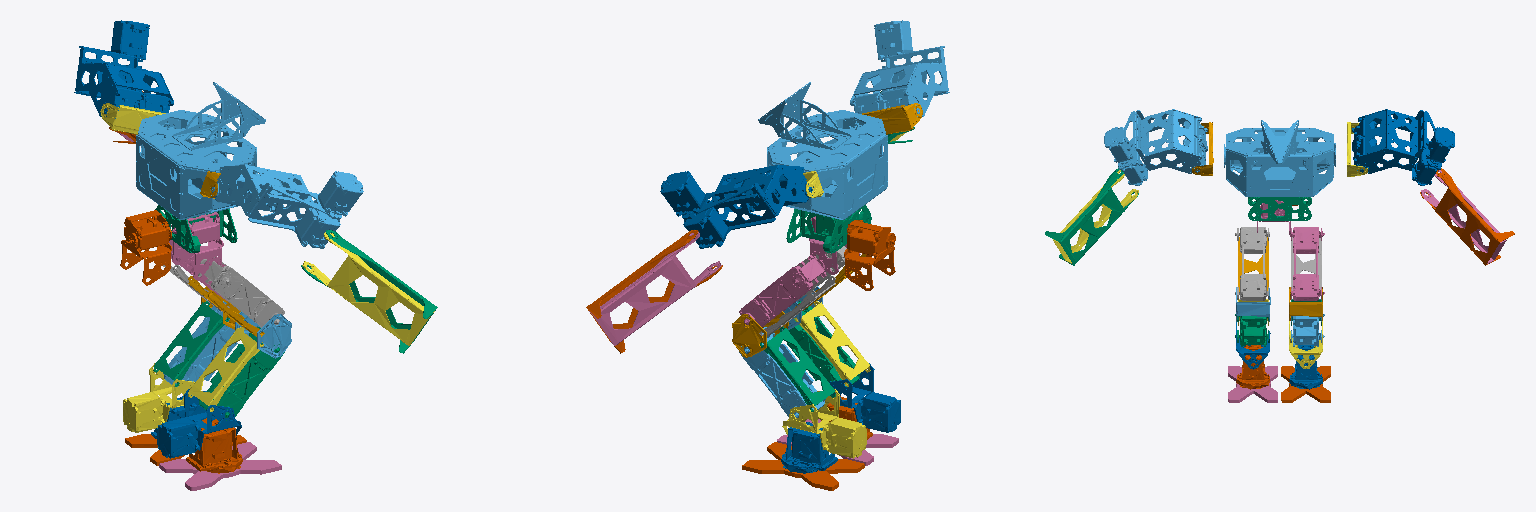
--- Render facts (derived) ---
3 views of the same robot in one strip: view 1: azimuth 30°, elevation 25°; view 2: azimuth 150°, elevation 25°; view 3: azimuth 270°, elevation 25° (orthographic).
Model ginko with 31 links and 30 joints (27 revolute, 3 fixed), rooted at base_link, posed every joint at zero.
Visible links, largest first — view 1: body_link0, arm_r_link1, arm_l_link1, arm_r_link3, leg_l_link0, leg_r_link6, leg_l_link6, leg_r_link1, leg_r_link4, leg_l_link5, leg_r_link5, leg_r_link8 (+9 smaller); view 2: body_link0, arm_l_link1, arm_r_link1, arm_l_link3, leg_l_link6, leg_l_link0, leg_l_link1, leg_r_link6, leg_l_link4, body_link1, leg_r_link5, leg_l_link5 (+9 smaller); view 3: body_link0, arm_l_link1, arm_r_link1, arm_r_link2, arm_l_link2, leg_r_link1, leg_l_link1, body_link1, arm_l_link3, arm_r_link3, leg_r_link8, leg_l_link8 (+8 smaller).
Link boxes in pixels (bbox=[...]): body_link0: bbox=[136, 82, 265, 219]; arm_r_link1: bbox=[211, 165, 363, 248]; arm_l_link1: bbox=[74, 20, 173, 118]; arm_r_link3: bbox=[302, 232, 434, 345]; leg_l_link0: bbox=[120, 210, 171, 285]; leg_r_link6: bbox=[157, 389, 241, 458]; leg_l_link6: bbox=[123, 363, 194, 432]; leg_r_link1: bbox=[198, 257, 284, 327]; leg_r_link4: bbox=[198, 327, 284, 420]; leg_l_link5: bbox=[153, 301, 229, 386]; leg_r_link5: bbox=[188, 327, 263, 411]; leg_r_link8: bbox=[159, 442, 281, 490]; body_link0: bbox=[758, 82, 887, 219]; arm_l_link1: bbox=[660, 165, 813, 248]; arm_r_link1: bbox=[850, 20, 949, 116]; arm_l_link3: bbox=[589, 232, 721, 345]; leg_l_link6: bbox=[782, 389, 866, 458]; leg_l_link0: bbox=[844, 220, 895, 290]; leg_l_link1: bbox=[739, 255, 826, 326]; leg_r_link6: bbox=[829, 363, 900, 432]; leg_l_link4: bbox=[739, 327, 825, 417]; body_link1: bbox=[786, 205, 871, 253]; leg_r_link5: bbox=[794, 301, 870, 386]; leg_l_link5: bbox=[760, 327, 835, 411]; body_link0: bbox=[1224, 120, 1335, 196]; arm_l_link1: bbox=[1352, 109, 1454, 185]; arm_r_link1: bbox=[1104, 109, 1207, 185]; arm_r_link2: bbox=[1045, 168, 1138, 265]; arm_l_link2: bbox=[1420, 168, 1514, 265]; leg_r_link1: bbox=[1235, 227, 1269, 300]; leg_l_link1: bbox=[1290, 227, 1324, 300]; body_link1: bbox=[1248, 197, 1311, 220]; arm_l_link3: bbox=[1421, 170, 1506, 263]; arm_r_link3: bbox=[1053, 170, 1138, 263]; leg_r_link8: bbox=[1228, 366, 1277, 402]; leg_l_link8: bbox=[1281, 366, 1330, 402].
Size in the robot's own frame: 0.2318 by 0.7537 by 0.4849 metres.
28 mesh visuals loaded from 25 distinct referenced files (24 binary STL); not drawn: 2 (reference not matched to a file when rendering).

The robot description file, URDF, robot "ginko":
<?xml version="1.0" ?>
<!-- =================================================================================== -->
<!-- |    This document was autogenerated by xacro from ./urdf_sim/robot_gazebo.urdf.xacro | -->
<!-- |    EDITING THIS FILE BY HAND IS NOT RECOMMENDED                                 | -->
<!-- =================================================================================== -->
<robot name="ginko" xmlns:xacro="http://www.ros.org/wiki/xacro">
  <!-- Used for fixing robot to Gazebo 'base_link' -->
  <!-- <link name="base"/> -->
  <gazebo>
    <plugin filename="libgazebo_ros_control.so" name="gazebo_ros_control">
      <robotNamespace>/ginko</robotNamespace>
      <robotSimType>gazebo_ros_control/DefaultRobotHWSim</robotSimType>
    </plugin>
  </gazebo>

  <link name="base_link"/>
  <joint name="base_joint" type="fixed">
    <parent link="base_link"/>
    <child link="body_link0"/>
    <origin rpy="0 0 0" xyz="0 0 0"/>
    <axis xyz="0 0 1"/>
    <limit effort="0.0" lower="0.0" upper="0.0" velocity="0.0"/>
  </joint>
  <!-- chest -->
  <link name="body_link0">
    <collision>
      <origin rpy="0 0 0" xyz="0 0 0"/>
      <geometry>
        <mesh filename="package://ginko_description/meshes/stl/link00_chest.stl"/>
      </geometry>
    </collision>
    <visual>
      <origin rpy="0 0 0" xyz="0 0 0"/>
      <geometry>
        <mesh filename="package://ginko_description/meshes/stl/link00_chest.stl"/>
      </geometry>
    </visual>
    <inertial>
      <mass value="1.41502697"/>
      <origin rpy="0 0 0" xyz="0.00008301 0.00000908 0.03819562"/>
      <inertia ixx="0.00248548" ixy="-0.00000074" ixz="0.000003761" iyy="0.00121388" iyz="-0.00000042" izz="0.00287756"/>
    </inertial>
  </link>

  <!-- waist -->
  <link name="body_link1">
    <collision>
      <origin rpy="0 0 0" xyz="0 0 0"/>
      <geometry>
        <mesh filename="package://ginko_description/meshes/stl/link01_waist.stl"/>
      </geometry>
    </collision>
    <visual>
      <origin rpy="0 0 0" xyz="0 0 0"/>
      <geometry>
        <mesh filename="package://ginko_description/meshes/stl/link01_waist.stl"/>
      </geometry>
    </visual>
    <inertial>
      <mass value="0.33312665"/>
      <origin rpy="0 0 0" xyz="-0.01135452 -0.00000134 -0.02720222"/>
      <inertia ixx="0.00015328" ixy="0.00000003" ixz="0.00001078" iyy="0.00073745" iyz="0.00000000" izz="0.00073107"/>
    </inertial>
  </link>
  <joint name="body_joint1" type="revolute">
    <parent link="body_link0"/>
    <child link="body_link1"/>
    <origin rpy="0 0 0" xyz="0 0 0"/>
    <axis xyz="0 0 1"/>
    <limit effort="100.0" lower="-2.6" upper="2.6" velocity="10.0"/>
  </joint>
  <!-- chest -->
  <gazebo reference="body_link0">
    <kp>10000.0</kp>
    <kd>0.0</kd>
    <mu1>1.0</mu1>
    <maxVel>1.0</maxVel>
    <minDepth>0.0001</minDepth>
    <maxContacts>5</maxContacts>
    <selfCollide>false</selfCollide>
    <!-- <dampingFactor>0.01</dampingFactor> -->
  </gazebo>
  <transmission name="body_tran0">
    <type>transmission_interface/SimpleTransmission</type>
    <joint name="body_joint1">
      <hardwareInterface>hardware_interface/EffortJointInterface</hardwareInterface>
    </joint>
    <actuator name="body_motor0">
      <hardwareInterface>hardware_interface/EffortJointInterface</hardwareInterface>
      <mechanicalReduction>1</mechanicalReduction>
    </actuator>
  </transmission>
  <!-- waist -->
  <gazebo reference="body_link1">
    <kp>10000.0</kp>
    <kd>0.0</kd>
    <mu1>1.0</mu1>
    <maxVel>1.0</maxVel>
    <minDepth>0.0001</minDepth>
    <maxContacts>5</maxContacts>
    <selfCollide>false</selfCollide>
    <!-- <dampingFactor>0.01</dampingFactor> -->
  </gazebo>
  <!-- shoulder pitch. -->
  <link name="arm_l_link0">
    <collision>
      <origin rpy="0 0 0" xyz="0 0 0"/>
      <geometry>
        <mesh filename="package://ginko_description/meshes/stl/link09_l_arm01.stl"/>
      </geometry>
    </collision>
    <visual>
      <origin rpy="0 0 0" xyz="0 0 0"/>
      <geometry>
        <mesh filename="package://ginko_description/meshes/stl/link09_l_arm01.stl"/>
      </geometry>
    </visual>
    <inertial>
      <mass value="0.01356014"/>
      <origin rpy="0 0 0" xyz="-0.01125790 0.00529265 0.00000000"/>
      <inertia ixx="0.00000235" ixy="0.00000004" ixz="0.00000000" iyy="0.00001670" iyz="0.00000000" izz="0.00001606"/>
    </inertial>
  </link>
  <joint name="arm_l_joint0" type="revolute">
    <parent link="body_link0"/>
    <child link="arm_l_link0"/>
    <origin rpy="0 0.3927 0" xyz="0 0.10683 0.05115"/>
    <axis xyz="0 -1 0"/>
    <limit effort="100.0" lower="-2.6" upper="2.6" velocity="10.0"/>
  </joint>
  <!-- shoulder roll -->
  <link name="arm_l_link1">
    <collision>
      <origin rpy="0 0 0" xyz="0 0 0"/>
      <geometry>
        <mesh filename="package://ginko_description/meshes/stl/link10_l_arm02.stl"/>
      </geometry>
    </collision>
    <visual>
      <origin rpy="0 0 0" xyz="0 0 0"/>
      <geometry>
        <mesh filename="package://ginko_description/meshes/stl/link10_l_arm02.stl"/>
      </geometry>
    </visual>
    <inertial>
      <mass value="0.33139947"/>
      <origin rpy="0 0 0" xyz="-0.02612786 0.02650564 -0.06333369"/>
      <inertia ixx="0.00115128" ixy="0.00015366" ixz="-0.00031848" iyy="0.00113572" iyz="-0.00037104" izz="0.00064743"/>
    </inertial>
  </link>
  <joint name="arm_l_joint1" type="revolute">
    <parent link="arm_l_link0"/>
    <child link="arm_l_link1"/>
    <origin rpy="1.1781 0 0" xyz="0.035 0.0246 0"/>
    <axis xyz="1 0 0"/>
    <limit effort="100.0" lower="-2.6" upper="2.6" velocity="10.0"/>
  </joint>
  <!-- scissors -->
  <link name="arm_l_link2">
    <collision>
      <origin rpy="0 0 0" xyz="0 0 0"/>
      <geometry>
        <mesh filename="package://ginko_description/meshes/stl/link11_l_scissor01.stl"/>
      </geometry>
    </collision>
    <visual>
      <origin rpy="0 0 0" xyz="0 0 0"/>
      <geometry>
        <mesh filename="package://ginko_description/meshes/stl/link11_l_scissor01.stl"/>
      </geometry>
    </visual>
    <inertial>
      <mass value="0.03287850"/>
      <origin rpy="0 0 0" xyz="0.08234859 -0.030246866 0.00514112"/>
      <inertia ixx="0.00002277" ixy="-0.00000014" ixz="-0.00000058" iyy="0.00008197" iyz="-0.00000001" izz="0.00010105"/>
    </inertial>
  </link>
  <joint name="arm_l_joint2" type="revolute">
    <parent link="arm_l_link1"/>
    <child link="arm_l_link2"/>
    <origin rpy="0 0.7854 0" xyz="0.0092 0.0547 -0.11295"/>
    <axis xyz="0 1 0"/>
    <limit effort="100.0" lower="-2.36" upper="2.36" velocity="10.0"/>
  </joint>
  <link name="arm_l_link3">
    <collision>
      <origin rpy="0 0 0" xyz="0 0 0"/>
      <geometry>
        <mesh filename="package://ginko_description/meshes/stl/link12_l_scissor02.stl"/>
      </geometry>
    </collision>
    <visual>
      <origin rpy="0 0 0" xyz="0 0 0"/>
      <geometry>
        <mesh filename="package://ginko_description/meshes/stl/link12_l_scissor02.stl"/>
      </geometry>
    </visual>
    <inertial>
      <mass value="0.02936110"/>
      <origin rpy="0 0 0" xyz="0.07807033 0.02515230 -0.00665437"/>
      <inertia ixx="0.00001452" ixy="0.00000023" ixz="-0.00000245" iyy="0.00006407" iyz="-0.00000002" izz="0.00008024"/>
    </inertial>
  </link>
  <joint name="arm_l_joint3" type="revolute">
    <parent link="arm_l_link1"/>
    <child link="arm_l_link3"/>
    <origin rpy="0 0.7854 0" xyz="0.0092 -0.0018 -0.11295"/>
    <axis xyz="0 1 0"/>
    <limit effort="100.0" lower="-2.36" upper="2.36" velocity="10.0"/>
  </joint>
  <!-- LiDAR -->
  <link name="arm_l_urg_link">
    <collision>
      <origin rpy="0 0 0" xyz="0 0 0"/>
      <geometry>
        <mesh filename="package://ginko_description/meshes/stl/urg.stl"/>
      </geometry>
    </collision>
    <visual>
      <origin rpy="0 0 0" xyz="0 0 0"/>
      <geometry>
        <mesh filename="package://ginko_description/meshes/stl/urg.stl"/>
      </geometry>
    </visual>
    <inertial>
      <mass value="0.16705492"/>
      <origin rpy="0 0 0" xyz="-0.00014579 0.00000831 -0.02360505"/>
      <inertia ixx="0.00008801" ixy="0.00000000" ixz="-0.00000049" iyy="0.00008854" iyz="-0.00000004" izz="0.00006019"/>
    </inertial>
  </link>
  <!-- use zero-limited revolute joint for fixed joint (SDF) -->
  <joint name="arm_l_urg_joint" type="fixed">
    <parent link="arm_l_link1"/>
    <child link="arm_l_urg_link"/>
    <origin rpy="0 1.57 -1.57" xyz="-0.0456 -0.01715 -0.06795"/>
    <axis xyz="0 0 1"/>
    <limit effort="0.0" lower="0.0" upper="0.0" velocity="0.0"/>
  </joint>
  <!-- shoulder pitch. -->
  <gazebo reference="arm_l_link0">
    <kp>10000.0</kp>
    <kd>0.0</kd>
    <mu1>1.0</mu1>
    <maxVel>1.0</maxVel>
    <minDepth>0.0001</minDepth>
    <maxContacts>5</maxContacts>
    <selfCollide>false</selfCollide>
    <!-- <dampingFactor>0.01</dampingFactor> -->
  </gazebo>
  <!-- shoulder roll -->
  <gazebo reference="arm_l_link1">
    <kp>10000.0</kp>
    <kd>0.0</kd>
    <mu1>1.0</mu1>
    <maxVel>1.0</maxVel>
    <minDepth>0.0001</minDepth>
    <maxContacts>5</maxContacts>
    <selfCollide>false</selfCollide>
    <!-- <dampingFactor>0.01</dampingFactor> -->
  </gazebo>
  <!-- scissors -->
  <gazebo reference="arm_l_link2">
    <kp>10000.0</kp>
    <kd>0.0</kd>
    <mu1>1.0</mu1>
    <maxVel>1.0</maxVel>
    <minDepth>0.0001</minDepth>
    <maxContacts>5</maxContacts>
    <selfCollide>false</selfCollide>
    <!-- <dampingFactor>0.01</dampingFactor> -->
  </gazebo>
  <gazebo reference="arm_l_link3">
    <kp>10000.0</kp>
    <kd>0.0</kd>
    <mu1>1.0</mu1>
    <maxVel>1.0</maxVel>
    <minDepth>0.0001</minDepth>
    <maxContacts>5</maxContacts>
    <selfCollide>false</selfCollide>
    <!-- <dampingFactor>0.01</dampingFactor> -->
  </gazebo>
  <transmission name="arm_l_tran0">
    <type>transmission_interface/SimpleTransmission</type>
    <joint name="arm_l_joint0">
      <hardwareInterface>hardware_interface/EffortJointInterface</hardwareInterface>
    </joint>
    <actuator name="arm_l_motor0">
      <hardwareInterface>hardware_interface/EffortJointInterface</hardwareInterface>
      <mechanicalReduction>1</mechanicalReduction>
    </actuator>
  </transmission>
  <transmission name="arm_l_tran1">
    <type>transmission_interface/SimpleTransmission</type>
    <joint name="arm_l_joint1">
      <hardwareInterface>hardware_interface/EffortJointInterface</hardwareInterface>
    </joint>
    <actuator name="arm_l_motor1">
      <hardwareInterface>hardware_interface/EffortJointInterface</hardwareInterface>
      <mechanicalReduction>1</mechanicalReduction>
    </actuator>
  </transmission>
  <transmission name="arm_l_tran2">
    <type>transmission_interface/SimpleTransmission</type>
    <joint name="arm_l_joint2">
      <hardwareInterface>hardware_interface/EffortJointInterface</hardwareInterface>
    </joint>
    <actuator name="arm_l_motor2">
      <hardwareInterface>hardware_interface/EffortJointInterface</hardwareInterface>
      <mechanicalReduction>1</mechanicalReduction>
    </actuator>
  </transmission>
  <transmission name="arm_l_tran3">
    <type>transmission_interface/SimpleTransmission</type>
    <joint name="arm_l_joint3">
      <hardwareInterface>hardware_interface/EffortJointInterface</hardwareInterface>
    </joint>
    <actuator name="arm_l_motor3">
      <hardwareInterface>hardware_interface/EffortJointInterface</hardwareInterface>
      <mechanicalReduction>1</mechanicalReduction>
    </actuator>
  </transmission>
  <!-- shoulder pitch. -->
  <link name="arm_r_link0">
    <collision>
      <origin rpy="0 0 0" xyz="0 0 0"/>
      <geometry>
        <mesh filename="package://ginko_description/meshes/stl/link09_r_arm01.stl"/>
      </geometry>
    </collision>
    <visual>
      <origin rpy="0 0 0" xyz="0 0 0"/>
      <geometry>
        <mesh filename="package://ginko_description/meshes/stl/link09_r_arm01.stl"/>
      </geometry>
    </visual>
    <inertial>
      <mass value="0.01356014"/>
      <origin rpy="0 0 0" xyz="-0.01125790 -0.00529265 0.00000000"/>
      <inertia ixx="0.00000235" ixy="-0.00000004" ixz="0.00000000" iyy="0.00001670" iyz="0.00000000" izz="0.00001606"/>
    </inertial>
  </link>
  <joint name="arm_r_joint0" type="revolute">
    <parent link="body_link0"/>
    <child link="arm_r_link0"/>
    <origin rpy="0 0.3927 0" xyz="0 -0.10683 0.05115"/>
    <axis xyz="0 1 0"/>
    <limit effort="100.0" lower="-2.6" upper="2.6" velocity="10.0"/>
  </joint>
  <!-- shoulder roll -->
  <link name="arm_r_link1">
    <collision>
      <origin rpy="0 0 0" xyz="0 0 0"/>
      <geometry>
        <mesh filename="package://ginko_description/meshes/stl/link10_r_arm02.stl"/>
      </geometry>
    </collision>
    <visual>
      <origin rpy="0 0 0" xyz="0 0 0"/>
      <geometry>
        <mesh filename="package://ginko_description/meshes/stl/link10_r_arm02.stl"/>
      </geometry>
    </visual>
    <inertial>
      <mass value="0.33139947"/>
      <origin rpy="0 0 0" xyz="-0.02612786 -0.02650564 -0.06333369"/>
      <inertia ixx="0.00115128" ixy="-0.00015366" ixz="-0.00031848" iyy="0.00113572" iyz="0.00037104" izz="0.00064743"/>
    </inertial>
  </link>
  <joint name="arm_r_joint1" type="revolute">
    <parent link="arm_r_link0"/>
    <child link="arm_r_link1"/>
    <origin rpy="-1.1781 0 0" xyz="0.035 -0.0246 0"/>
    <axis xyz="1 0 0"/>
    <limit effort="100.0" lower="-2.6" upper="2.6" velocity="10.0"/>
  </joint>
  <!-- scissors -->
  <link name="arm_r_link2">
    <collision>
      <origin rpy="0 0 0" xyz="0 0 0"/>
      <geometry>
        <mesh filename="package://ginko_description/meshes/stl/link11_r_scissor01.stl"/>
      </geometry>
    </collision>
    <visual>
      <origin rpy="0 0 0" xyz="0 0 0"/>
      <geometry>
        <mesh filename="package://ginko_description/meshes/stl/link11_r_scissor01.stl"/>
      </geometry>
    </visual>
    <inertial>
      <mass value="0.03287850"/>
      <origin rpy="0 0 0" xyz="0.08234859 0.030246866 0.00514112"/>
      <inertia ixx="0.00002277" ixy="0.00000014" ixz="-0.00000058" iyy="0.00008197" iyz="0.00000001" izz="0.00010105"/>
    </inertial>
  </link>
  <joint name="arm_r_joint2" type="revolute">
    <parent link="arm_r_link1"/>
    <child link="arm_r_link2"/>
    <origin rpy="0 0.7854 0" xyz="0.0092 -0.0547 -0.11295"/>
    <axis xyz="0 -1 0"/>
    <limit effort="100.0" lower="-2.36" upper="2.36" velocity="10.0"/>
  </joint>
  <link name="arm_r_link3">
    <collision>
      <origin rpy="0 0 0" xyz="0 0 0"/>
      <geometry>
        <mesh filename="package://ginko_description/meshes/stl/link12_r_scissor02.stl"/>
      </geometry>
    </collision>
    <visual>
      <origin rpy="0 0 0" xyz="0 0 0"/>
      <geometry>
        <mesh filename="package://ginko_description/meshes/stl/link12_r_scissor02.stl"/>
      </geometry>
    </visual>
    <inertial>
      <mass value="0.02936110"/>
      <origin rpy="0 0 0" xyz="0.07807033 -0.02515230 -0.00665437"/>
      <inertia ixx="0.00001452" ixy="-0.00000023" ixz="-0.00000245" iyy="0.00006407" iyz="0.00000002" izz="0.00008024"/>
    </inertial>
  </link>
  <joint name="arm_r_joint3" type="revolute">
    <parent link="arm_r_link1"/>
    <child link="arm_r_link3"/>
    <origin rpy="0 0.7854 0" xyz="0.0092 0.0018 -0.11295"/>
    <axis xyz="0 -1 0"/>
    <limit effort="100.0" lower="-2.36" upper="2.36" velocity="10.0"/>
  </joint>
  <!-- LiDAR -->
  <link name="arm_r_urg_link">
    <collision>
      <origin rpy="0 0 0" xyz="0 0 0"/>
      <geometry>
        <mesh filename="package://ginko_description/meshes/stl/urg.stl"/>
      </geometry>
    </collision>
    <visual>
      <origin rpy="0 0 0" xyz="0 0 0"/>
      <geometry>
        <mesh filename="package://ginko_description/meshes/stl/urg.stl"/>
      </geometry>
    </visual>
    <inertial>
      <mass value="0.16705492"/>
      <origin rpy="0 0 0" xyz="-0.00014579 0.00000831 -0.02360505"/>
      <inertia ixx="0.00008801" ixy="0.00000000" ixz="-0.00000049" iyy="0.00008854" iyz="-0.00000004" izz="0.00006019"/>
    </inertial>
  </link>
  <!-- use zero-limited revolute joint for fixed joint (SDF) -->
  <joint name="arm_r_urg_joint" type="fixed">
    <parent link="arm_r_link1"/>
    <child link="arm_r_urg_link"/>
    <origin rpy="0 1.57 1.57" xyz="-0.0456 0.01715 -0.06795"/>
    <axis xyz="0 0 1"/>
    <limit effort="0.0" lower="0.0" upper="0.0" velocity="0.0"/>
  </joint>
  <!-- shoulder pitch. -->
  <gazebo reference="arm_r_link0">
    <kp>10000.0</kp>
    <kd>0.0</kd>
    <mu1>1.0</mu1>
    <maxVel>1.0</maxVel>
    <minDepth>0.0001</minDepth>
    <maxContacts>5</maxContacts>
    <selfCollide>false</selfCollide>
    <!-- <dampingFactor>0.01</dampingFactor> -->
  </gazebo>
  <!-- shoulder roll -->
  <gazebo reference="arm_r_link1">
    <kp>10000.0</kp>
    <kd>0.0</kd>
    <mu1>1.0</mu1>
    <maxVel>1.0</maxVel>
    <minDepth>0.0001</minDepth>
    <maxContacts>5</maxContacts>
    <selfCollide>false</selfCollide>
    <!-- <dampingFactor>0.01</dampingFactor> -->
  </gazebo>
  <!-- scissors -->
  <gazebo reference="arm_r_link2">
    <kp>10000.0</kp>
    <kd>0.0</kd>
    <mu1>1.0</mu1>
    <maxVel>1.0</maxVel>
    <minDepth>0.0001</minDepth>
    <maxContacts>5</maxContacts>
    <selfCollide>false</selfCollide>
    <!-- <dampingFactor>0.01</dampingFactor> -->
  </gazebo>
  <gazebo reference="arm_r_link3">
    <kp>10000.0</kp>
    <kd>0.0</kd>
    <mu1>1.0</mu1>
    <maxVel>1.0</maxVel>
    <minDepth>0.0001</minDepth>
    <maxContacts>5</maxContacts>
    <selfCollide>false</selfCollide>
    <!-- <dampingFactor>0.01</dampingFactor> -->
  </gazebo>
  <transmission name="arm_r_tran0">
    <type>transmission_interface/SimpleTransmission</type>
    <joint name="arm_r_joint0">
      <hardwareInterface>hardware_interface/EffortJointInterface</hardwareInterface>
    </joint>
    <actuator name="arm_r_motor0">
      <hardwareInterface>hardware_interface/EffortJointInterface</hardwareInterface>
      <mechanicalReduction>1</mechanicalReduction>
    </actuator>
  </transmission>
  <transmission name="arm_r_tran1">
    <type>transmission_interface/SimpleTransmission</type>
    <joint name="arm_r_joint1">
      <hardwareInterface>hardware_interface/EffortJointInterface</hardwareInterface>
    </joint>
    <actuator name="arm_r_motor1">
      <hardwareInterface>hardware_interface/EffortJointInterface</hardwareInterface>
      <mechanicalReduction>1</mechanicalReduction>
    </actuator>
  </transmission>
  <transmission name="arm_r_tran2">
    <type>transmission_interface/SimpleTransmission</type>
    <joint name="arm_r_joint2">
      <hardwareInterface>hardware_interface/EffortJointInterface</hardwareInterface>
    </joint>
    <actuator name="arm_r_motor2">
      <hardwareInterface>hardware_interface/EffortJointInterface</hardwareInterface>
      <mechanicalReduction>1</mechanicalReduction>
    </actuator>
  </transmission>
  <transmission name="arm_r_tran3">
    <type>transmission_interface/SimpleTransmission</type>
    <joint name="arm_r_joint3">
      <hardwareInterface>hardware_interface/EffortJointInterface</hardwareInterface>
    </joint>
    <actuator name="arm_r_motor3">
      <hardwareInterface>hardware_interface/EffortJointInterface</hardwareInterface>
      <mechanicalReduction>1</mechanicalReduction>
    </actuator>
  </transmission>
  <!-- Femoral -->
  <link name="leg_l_link0">
    <collision>
      <origin rpy="0 0 0" xyz="0 0 0"/>
      <geometry>
        <mesh filename="package://ginko_description/meshes/stl/link02_l_femoral.stl"/>
      </geometry>
    </collision>
    <visual>
      <origin rpy="0 0 0" xyz="0 0 0"/>
      <geometry>
        <mesh filename="package://ginko_description/meshes/stl/link02_l_femoral.stl"/>
      </geometry>
    </visual>
    <inertial>
      <mass value="0.03433352"/>
      <origin rpy="0 0 0" xyz="0.02930795 0.03723759 -0.02605386"/>
      <inertia ixx="0.00002443" ixy="-0.00000021" ixz="-0.00000021" iyy="0.00002287" iyz="-0.00000391" izz="0.00002983"/>
    </inertial>
  </link>
  <joint name="leg_l_joint0" type="revolute">
    <parent link="body_link1"/>
    <child link="leg_l_link0"/>
    <origin rpy="0 0 0" xyz="-0.0404 0.0 -0.0409"/>
    <axis xyz="-1 0 0"/>
    <limit effort="100.0" lower="-0.8" upper="1.1781" velocity="10.0"/>
  </joint>
  <!-- parallel link (upper-1st) -->
  <link name="leg_l_link1">
    <collision>
      <origin rpy="0 0 0" xyz="0 0 0"/>
      <geometry>
        <mesh filename="package://ginko_description/meshes/stl/link03_l_leg01.stl"/>
      </geometry>
    </collision>
    <visual>
      <origin rpy="0 0 0" xyz="0 0 0"/>
      <geometry>
        <mesh filename="package://ginko_description/meshes/stl/link03_l_leg01.stl"/>
      </geometry>
    </visual>
    <inertial>
      <mass value="0.18525692"/>
      <origin rpy="0 0 0" xyz="0.05000000 0.03285059 0.00068146"/>
      <inertia ixx="0.00041331" ixy="-0.00003605" ixz="-0.00000000" iyy="0.00027917" iyz="-0.00000184" izz="0.00066510"/>
    </inertial>
  </link>
  <joint name="leg_l_joint1" type="revolute">
    <parent link="leg_l_link0"/>
    <child link="leg_l_link1"/>
    <origin rpy="0 0.7854 0" xyz="0.0433 0.0175 -0.0481"/>
    <axis xyz="0 -1 0"/>
    <limit effort="100.0" lower="-1.3" upper="0.7854" velocity="10.0"/>
  </joint>
  <!-- parallel link (upper-2nd) -->
  <link name="leg_l_link2">
    <collision>
      <origin rpy="0 0 0" xyz="0 0 0"/>
      <geometry>
        <mesh filename="package://ginko_description/meshes/stl/link04_l_leg02.stl"/>
      </geometry>
    </collision>
    <visual>
      <origin rpy="0 0 0" xyz="0 0 0"/>
      <geometry>
        <mesh filename="package://ginko_description/meshes/stl/link04_l_leg02.stl"/>
      </geometry>
    </visual>
    <inertial>
      <mass value="0.01646643"/>
      <origin rpy="0 0 0" xyz="0.05000000 0.02495100 -0.00491150"/>
      <inertia ixx="0.00000640" ixy="0.00000000" ixz="0.00000000" iyy="0.00001642" iyz="0.00000000" izz="0.00002264"/>
    </inertial>
  </link>
  <joint name="leg_l_joint2" type="revolute">
    <parent link="leg_l_link0"/>
    <child link="leg_l_link2"/>
    <origin rpy="0 0.7854 0" xyz="0.022 0.0175 -0.06015"/>
    <axis xyz="0 -1 0"/>
    <limit effort="100.0" lower="-3.141593" upper="3.141593" velocity="10.0"/>
    <mimic joint="leg_l_joint1" multiplier="1" offset="0"/>
  </joint>
  <!-- knee -->
  <link name="leg_l_link3">
    <collision>
      <origin rpy="0 0 0" xyz="0 0 0"/>
      <geometry>
        <mesh filename="package://ginko_description/meshes/stl/link05_l_knee.stl"/>
      </geometry>
    </collision>
    <visual>
      <origin rpy="0 0 0" xyz="0 0 0"/>
      <geometry>
        <mesh filename="package://ginko_description/meshes/stl/link05_l_knee.stl"/>
      </geometry>
    </visual>
    <inertial>
      <mass value="0.01781176"/>
      <origin rpy="0 0 0" xyz="0.00393357 0.02364163 -0.01930000"/>
      <inertia ixx="0.00001301" ixy="0.00000008" ixz="0.00000000" iyy="0.00000700" iyz="0.00000000" izz="0.00001388"/>
    </inertial>
  </link>
  <joint name="leg_l_joint3" type="revolute">
    <parent link="leg_l_link1"/>
    <child link="leg_l_link3"/>
    <origin rpy="0 -0.7854 0" xyz="0.1 0.0 0.0"/>
    <axis xyz="0 1 0"/>
    <limit effort="100.0" lower="-3.141593" upper="3.141593" velocity="10.0"/>
    <mimic joint="leg_l_joint1" multiplier="1" offset="0"/>
  </joint>
  <!-- parallel link (lower-1st) -->
  <link name="leg_l_link4">
    <collision>
      <origin rpy="0 0 0" xyz="0 0 0"/>
      <geometry>
        <mesh filename="package://ginko_description/meshes/stl/link03_l_leg01.stl"/>
      </geometry>
    </collision>
    <visual>
      <origin rpy="0 0 0" xyz="0 0 0"/>
      <geometry>
        <mesh filename="package://ginko_description/meshes/stl/link03_l_leg01.stl"/>
      </geometry>
    </visual>
    <inertial>
      <mass value="0.18525692"/>
      <origin rpy="0 0 0" xyz="0.05000000 0.03285059 0.00068146"/>
      <inertia ixx="0.00041331" ixy="-0.00003605" ixz="-0.00000000" iyy="0.00027917" iyz="-0.00000184" izz="0.00066510"/>
    </inertial>
  </link>
  <joint name="leg_l_joint4" type="revolute">
    <parent link="leg_l_link3"/>
    <child link="leg_l_link4"/>
    <origin rpy="0 2.3562 0" xyz="0 0 -0.0386"/>
    <axis xyz="0 -1 0"/>
    <limit effort="100.0" lower="-0.7854" upper="1.3" velocity="10.0"/>
  </joint>
  <!-- parallel link (lower-2nd) -->
  <link name="leg_l_link5">
    <collision>
      <origin rpy="0 0 0" xyz="0 0 0"/>
      <geometry>
        <mesh filename="package://ginko_description/meshes/stl/link04_l_leg02.stl"/>
      </geometry>
    </collision>
    <visual>
      <origin rpy="0 0 0" xyz="0 0 0"/>
      <geometry>
        <mesh filename="package://ginko_description/meshes/stl/link04_l_leg02.stl"/>
      </geometry>
    </visual>
    <inertial>
      <mass value="0.01646643"/>
      <origin rpy="0 0 0" xyz="0.05000000 0.02495100 -0.00491150"/>
      <inertia ixx="0.00000640" ixy="0.00000000" ixz="0.00000000" iyy="0.00001642" iyz="0.00000000" izz="0.00002264"/>
    </inertial>
  </link>
  <joint name="leg_l_joint5" type="revolute">
    <parent link="leg_l_link3"/>
    <child link="leg_l_link5"/>
    <origin rpy="0 2.3562 0" xyz="-0.0213 0 -0.02655"/>
    <axis xyz="0 -1 0"/>
    <limit effort="100.0" lower="-3.141593" upper="3.141593" velocity="10.0"/>
    <mimic joint="leg_l_joint4" multiplier="1" offset="0"/>
  </joint>
  <!-- toe -->
  <link name="leg_l_link6">
    <collision>
      <origin rpy="0 0 0" xyz="0 0 0"/>
      <geometry>
        <mesh filename="package://ginko_description/meshes/stl/link06_l_toe01.stl"/>
      </geometry>
    </collision>
    <visual>
      <origin rpy="0 0 0" xyz="0 0 0"/>
      <geometry>
        <mesh filename="package://ginko_description/meshes/stl/link06_l_toe01.stl"/>
      </geometry>
    </visual>
    <inertial>
      <mass value="0.08799204"/>
      <origin rpy="0 0 0" xyz="-0.04166125 0.02463880 -0.02586249"/>
      <inertia ixx="0.00002815" ixy="-0.00000041" ixz="0.00000980" iyy="0.00006846" iyz="-0.00000026" izz="0.00006529"/>
    </inertial>
  </link>
  <joint name="leg_l_joint6" type="revolute">
    <parent link="leg_l_link4"/>
    <child link="leg_l_link6"/>
    <origin rpy="0 -2.3562 0" xyz="0.1 0.0 0.0"/>
    <axis xyz="0 1 0"/>
    <limit effort="100.0" lower="-3.141593" upper="3.141593" velocity="10.0"/>
    <mimic joint="leg_l_joint4" multiplier="1" offset="0"/>
  </joint>
  <link name="leg_l_link7">
    <collision>
      <origin rpy="0 0 0" xyz="0 0 0"/>
      <geometry>
        <mesh filename="package://ginko_description/meshes/stl/link07_l_toe02.stl"/>
      </geometry>
    </collision>
    <visual>
      <origin rpy="0 0 0" xyz="0 0 0"/>
      <geometry>
        <mesh filename="package://ginko_description/meshes/stl/link07_l_toe02.stl"/>
      </geometry>
    </visual>
    <inertial>
      <mass value="0.10920041"/>
      <origin rpy="0 0 0" xyz="0.02658756 0.00000053 -0.01782468"/>
      <inertia ixx="0.00003853" ixy="0.00000000" ixz="-0.00000479" iyy="0.00005192" iyz="0.00000000" izz="0.00003521"/>
    </inertial>
  </link>
  <joint name="leg_l_joint7" type="revolute">
    <parent link="leg_l_link6"/>
    <child link="leg_l_link7"/>
    <origin rpy="0 0 0" xyz="-0.028 0.02475 -0.0391"/>
    <axis xyz="-1 0 0"/>
    <limit effort="100.0" lower="-1.6" upper="1.6" velocity="10.0"/>
  </joint>
  <link name="leg_l_link8">
    <collision>
      <origin rpy="0 0 0" xyz="0 0 0"/>
      <geometry>
        <mesh filename="package://ginko_description/meshes/stl/link08_l_toe03.stl"/>
      </geometry>
    </collision>
    <visual>
      <origin rpy="0 0 0" xyz="0 0 0"/>
      <geometry>
        <mesh filename="package://ginko_description/meshes/stl/link08_l_toe03.stl"/>
      </geometry>
    </visual>
    <inertial>
      <mass value="0.05363111"/>
      <origin rpy="0 0 0" xyz="0.00000000 0.00000000 -0.00269342"/>
      <inertia ixx="0.00002877" ixy="0.00000000" ixz="0.00000000" iyy="0.00007083" iyz="-0.00000000" izz="0.00009934"/>
    </inertial>
  </link>
  <joint name="leg_l_joint8" type="revolute">
    <parent link="leg_l_link7"/>
    <child link="leg_l_link8"/>
    <origin rpy="0 0 0" xyz="0.0342 0 -0.04"/>
    <axis xyz="0 0 1"/>
    <limit effort="100.0" lower="-2.6" upper="2.6" velocity="10.0"/>
  </joint>
  <!-- Link conencts from body. Femoral first. -->
  <gazebo reference="leg_l_link0">
    <kp>10000.0</kp>
    <kd>0.0</kd>
    <mu1>0.0</mu1>
    <maxVel>3.0</maxVel>
    <minDepth>0.0001</minDepth>
    <maxContacts>5</maxContacts>
    <selfCollide>false</selfCollide>
    <dampingFactor>0.01</dampingFactor>
  </gazebo>
  <!-- parallel link (upper-1st) -->
  <gazebo reference="leg_l_link1">
    <kp>1000.0</kp>
    <kd>0.0</kd>
    <mu1>0.0</mu1>
    <maxVel>3.0</maxVel>
    <minDepth>0.0001</minDepth>
    <maxContacts>5</maxContacts>
    <selfCollide>true</selfCollide>
    <dampingFactor>0.01</dampingFactor>
  </gazebo>
  <!-- parallel link (upper-2nd) -->
  <gazebo reference="leg_l_link2">
    <kp>10000.0</kp>
    <kd>0.0</kd>
    <mu1>0.0</mu1>
    <maxVel>3.0</maxVel>
    <minDepth>0.0001</minDepth>
    <maxContacts>5</maxContacts>
    <selfCollide>false</selfCollide>
    <dampingFactor>0.01</dampingFactor>
  </gazebo>
  <!-- knee -->
  <gazebo reference="leg_l_link3">
    <kp>10000.0</kp>
    <kd>0.0</kd>
    <mu1>0.3</mu1>
    <maxVel>3.0</maxVel>
    <minDepth>0.0001</minDepth>
    <maxContacts>5</maxContacts>
    <selfCollide>false</selfCollide>
    <dampingFactor>0.01</dampingFactor>
  </gazebo>
  <!-- parallel link (lower-1st) -->
  <gazebo reference="leg_l_link4">
    <kp>1000.0</kp>
    <kd>0.0</kd>
    <mu1>0.0</mu1>
    <maxVel>3.0</maxVel>
    <minDepth>0.0001</minDepth>
    <maxContacts>5</maxContacts>
    <selfCollide>true</selfCollide>
    <dampingFactor>0.01</dampingFactor>
  </gazebo>
  <!-- parallel link (lower-2nd) -->
  <gazebo reference="leg_l_link5">
    <kp>10000.0</kp>
    <kd>0.0</kd>
    <mu1>0.0</mu1>
    <maxVel>3.0</maxVel>
    <minDepth>0.0001</minDepth>
    <maxContacts>5</maxContacts>
    <selfCollide>false</selfCollide>
    <dampingFactor>0.01</dampingFactor>
  </gazebo>
  <!-- toe -->
  <gazebo reference="leg_l_link6">
    <kp>10000.0</kp>
    <kd>0.0</kd>
    <mu1>0.0</mu1>
    <maxVel>3.0</maxVel>
    <minDepth>0.0001</minDepth>
    <maxContacts>5</maxContacts>
    <selfCollide>false</selfCollide>
    <dampingFactor>0.01</dampingFactor>
  </gazebo>
  <gazebo reference="leg_l_link7">
    <kp>10000.0</kp>
    <kd>0.0</kd>
    <mu1>0.0</mu1>
    <maxVel>3.0</maxVel>
    <minDepth>0.0001</minDepth>
    <maxContacts>5</maxContacts>
    <selfCollide>false</selfCollide>
    <dampingFactor>0.01</dampingFactor>
  </gazebo>
  <gazebo reference="leg_l_link8">
    <kp>10000.0</kp>
    <kd>0.0</kd>
    <mu1>1.0</mu1>
    <maxVel>3.0</maxVel>
    <minDepth>0.0001</minDepth>
    <maxContacts>5</maxContacts>
    <selfCollide>false</selfCollide>
    <dampingFactor>0.01</dampingFactor>
  </gazebo>
  <!-- Joints. Femoral first. -->
  <transmission name="leg_l_tran0">
    <type>transmission_interface/SimpleTransmission</type>
    <joint name="leg_l_joint0">
      <hardwareInterface>hardware_interface/EffortJointInterface</hardwareInterface>
    </joint>
    <actuator name="leg_l_motor0">
      <hardwareInterface>hardware_interface/EffortJointInterface</hardwareInterface>
      <mechanicalReduction>1</mechanicalReduction>
    </actuator>
  </transmission>
  <!-- parallel link (upper-1st) -->
  <transmission name="leg_l_tran1">
    <type>transmission_interface/SimpleTransmission</type>
    <joint name="leg_l_joint1">
      <hardwareInterface>hardware_interface/EffortJointInterface</hardwareInterface>
    </joint>
    <actuator name="leg_l_motor1">
      <hardwareInterface>hardware_interface/EffortJointInterface</hardwareInterface>
      <mechanicalReduction>1</mechanicalReduction>
    </actuator>
  </transmission>
  <!-- parallel link (lower-1st) -->
  <transmission name="leg_l_tran2">
    <type>transmission_interface/SimpleTransmission</type>
    <joint name="leg_l_joint4">
      <hardwareInterface>hardware_interface/EffortJointInterface</hardwareInterface>
    </joint>
    <actuator name="leg_l_motor2">
      <hardwareInterface>hardware_interface/EffortJointInterface</hardwareInterface>
      <mechanicalReduction>1</mechanicalReduction>
    </actuator>
  </transmission>
  <!-- toe -->
  <transmission name="leg_l_tran3">
    <type>transmission_interface/SimpleTransmission</type>
    <joint name="leg_l_joint7">
      <hardwareInterface>hardware_interface/EffortJointInterface</hardwareInterface>
    </joint>
    <actuator name="leg_l_motor3">
      <hardwareInterface>hardware_interface/EffortJointInterface</hardwareInterface>
      <mechanicalReduction>1</mechanicalReduction>
    </actuator>
  </transmission>
  <transmission name="leg_l_tran4">
    <type>transmission_interface/SimpleTransmission</type>
    <joint name="leg_l_joint8">
      <hardwareInterface>hardware_interface/EffortJointInterface</hardwareInterface>
    </joint>
    <actuator name="leg_l_motor4">
      <hardwareInterface>hardware_interface/EffortJointInterface</hardwareInterface>
      <mechanicalReduction>1</mechanicalReduction>
    </actuator>
  </transmission>
  <!-- Femoral -->
  <link name="leg_r_link0">
    <collision>
      <origin rpy="0 0 0" xyz="0 0 0"/>
      <geometry>
        <mesh filename="package://ginko_description/meshes/stl/link02_r_femoral.stl"/>
      </geometry>
    </collision>
    <visual>
      <origin rpy="0 0 0" xyz="0 0 0"/>
      <geometry>
        <mesh filename="package://ginko_description/meshes/stl/link02_r_femoral.stl"/>
      </geometry>
    </visual>
    <inertial>
      <mass value="0.03431457"/>
      <origin rpy="0 0 0" xyz="-0.02905818 -0.03723481 -0.02604954"/>
      <inertia ixx="0.00002441" ixy="0.00000001" ixz="0.00000021" iyy="0.00002285" iyz="0.00000391" izz="0.00002980"/>
    </inertial>
  </link>
  <joint name="leg_r_joint0" type="revolute">
    <parent link="body_link1"/>
    <child link="leg_r_link0"/>
    <origin rpy="0 0 0" xyz="0.0205 0.0 -0.0409"/>
    <axis xyz="1 0 0"/>
    <limit effort="100.0" lower="-1.1781" upper="0.8" velocity="10.0"/>
  </joint>
  <!-- parallel link (upper-1st) -->
  <link name="leg_r_link1">
    <collision>
      <origin rpy="0 0 0" xyz="0 0 0"/>
      <geometry>
        <mesh filename="package://ginko_description/meshes/stl/link03_r_leg01.stl"/>
      </geometry>
    </collision>
    <visual>
      <origin rpy="0 0 0" xyz="0 0 0"/>
      <geometry>
        <mesh filename="package://ginko_description/meshes/stl/link03_r_leg01.stl"/>
      </geometry>
    </visual>
    <inertial>
      <mass value="0.18525690"/>
      <origin rpy="0 0 0" xyz="0.05000000 -0.01719078 0.00068146"/>
      <inertia ixx="0.00055489" ixy="-0.00004242" ixz="0.00000000" iyy="0.00027917" iyz="-0.00000175" izz="0.00081028"/>
    </inertial>
  </link>
  <joint name="leg_r_joint1" type="revolute">
    <parent link="leg_r_link0"/>
    <child link="leg_r_link1"/>
    <origin rpy="0 0.7854 0" xyz="-0.0176 -0.0175 -0.0481"/>
    <axis xyz="0 1 0"/>
    <limit effort="100.0" lower="-0.7854" upper="1.3" velocity="10.0"/>
  </joint>
  <!-- parallel link (upper-2nd) -->
  <link name="leg_r_link2">
    <collision>
      <origin rpy="0 0 0" xyz="0 0 0"/>
      <geometry>
        <mesh filename="package://ginko_description/meshes/stl/link04_r_leg02.stl"/>
      </geometry>
    </collision>
    <visual>
      <origin rpy="0 0 0" xyz="0 0 0"/>
      <geometry>
        <mesh filename="package://ginko_description/meshes/stl/link04_r_leg02.stl"/>
      </geometry>
    </visual>
    <inertial>
      <mass value="0.01646643"/>
      <origin rpy="0 0 0" xyz="0.05000000 -0.02495100 -0.00491150"/>
      <inertia ixx="0.00000640" ixy="0.00000000" ixz="0.00000000" iyy="0.00001642" iyz="0.00000000" izz="0.00002264"/>
    </inertial>
  </link>
  <joint name="leg_r_joint2" type="revolute">
    <parent link="leg_r_link0"/>
    <child link="leg_r_link2"/>
    <origin rpy="0 0.7854 0" xyz="-0.0389 -0.0175 -0.06015"/>
    <axis xyz="0 1 0"/>
    <limit effort="100.0" lower="-3.141593" upper="3.141593" velocity="10.0"/>
    <mimic joint="leg_r_joint1" multiplier="1" offset="0"/>
  </joint>
  <!-- knee -->
  <link name="leg_r_link3">
    <collision>
      <origin rpy="0 0 0" xyz="0 0 0"/>
      <geometry>
        <mesh filename="package://ginko_description/meshes/stl/link05_r_knee.stl"/>
      </geometry>
    </collision>
    <visual>
      <origin rpy="0 0 0" xyz="0 0 0"/>
      <geometry>
        <mesh filename="package://ginko_description/meshes/stl/link05_r_knee.stl"/>
      </geometry>
    </visual>
    <inertial>
      <mass value="0.01781176"/>
      <origin rpy="0 0 0" xyz="0.00393357 -0.02364163 -0.01930000"/>
      <inertia ixx="0.00001301" ixy="-0.00000008" ixz="0.00000000" iyy="0.00000700" iyz="0.00000000" izz="0.00001388"/>
    </inertial>
  </link>
  <joint name="leg_r_joint3" type="revolute">
    <parent link="leg_r_link1"/>
    <child link="leg_r_link3"/>
    <origin rpy="0 -0.7854 0" xyz="0.1 0.0 0.0"/>
    <axis xyz="0 -1 0"/>
    <limit effort="100.0" lower="-3.141593" upper="3.141593" velocity="10.0"/>
    <mimic joint="leg_r_joint1" multiplier="1" offset="0"/>
  </joint>
  <!-- parallel link (lower-1st) -->
  <link name="leg_r_link4">
    <collision>
      <origin rpy="0 0 0" xyz="0 0 0"/>
      <geometry>
        <mesh filename="package://ginko_description/meshes/stl/link03_r_leg01.stl"/>
      </geometry>
    </collision>
    <visual>
      <origin rpy="0 0 0" xyz="0 0 0"/>
      <geometry>
        <mesh filename="package://ginko_description/meshes/stl/link03_r_leg01.stl"/>
      </geometry>
    </visual>
    <inertial>
      <mass value="0.18525690"/>
      <origin rpy="0 0 0" xyz="0.05000000 -0.01719078 0.00068146"/>
      <inertia ixx="0.00055489" ixy="-0.00004242" ixz="0.00000000" iyy="0.00027917" iyz="-0.00000175" izz="0.00081028"/>
    </inertial>
  </link>
  <joint name="leg_r_joint4" type="revolute">
    <parent link="leg_r_link3"/>
    <child link="leg_r_link4"/>
    <origin rpy="0 2.3562 0" xyz="0 0 -0.0386"/>
    <axis xyz="0 1 0"/>
    <limit effort="100.0" lower="-1.3" upper="0.7854" velocity="10.0"/>
  </joint>
  <!-- parallel link (lower-2nd) -->
  <link name="leg_r_link5">
    <collision>
      <origin rpy="0 0 0" xyz="0 0 0"/>
      <geometry>
        <mesh filename="package://ginko_description/meshes/stl/link04_r_leg02.stl"/>
      </geometry>
    </collision>
    <visual>
      <origin rpy="0 0 0" xyz="0 0 0"/>
      <geometry>
        <mesh filename="package://ginko_description/meshes/stl/link04_r_leg02.stl"/>
      </geometry>
    </visual>
    <inertial>
      <mass value="0.01646643"/>
      <origin rpy="0 0 0" xyz="0.05000000 -0.02495100 -0.00491150"/>
      <inertia ixx="0.00000640" ixy="0.00000000" ixz="0.00000000" iyy="0.00001642" iyz="0.00000000" izz="0.00002264"/>
    </inertial>
  </link>
  <joint name="leg_r_joint5" type="revolute">
    <parent link="leg_r_link3"/>
    <child link="leg_r_link5"/>
    <origin rpy="0 2.3562 0" xyz="-0.0213 0 -0.02655"/>
    <axis xyz="0 1 0"/>
    <limit effort="100.0" lower="-3.141593" upper="3.141593" velocity="10.0"/>
    <mimic joint="leg_r_joint4" multiplier="1" offset="0"/>
  </joint>
  <!-- toe -->
  <link name="leg_r_link6">
    <collision>
      <origin rpy="0 0 0" xyz="0 0 0"/>
      <geometry>
        <mesh filename="package://ginko_description/meshes/stl/link06_r_toe01.stl"/>
      </geometry>
    </collision>
    <visual>
      <origin rpy="0 0 0" xyz="0 0 0"/>
      <geometry>
        <mesh filename="package://ginko_description/meshes/stl/link06_r_toe01.stl"/>
      </geometry>
    </visual>
    <inertial>
      <mass value="0.08799204"/>
      <origin rpy="0 0 0" xyz="-0.04166125 -0.02463880 -0.02586249"/>
      <inertia ixx="0.00002815" ixy="0.00000041" ixz="0.00000980" iyy="0.00006846" iyz="0.00000026" izz="0.00006529"/>
    </inertial>
  </link>
  <joint name="leg_r_joint6" type="revolute">
    <parent link="leg_r_link4"/>
    <child link="leg_r_link6"/>
    <origin rpy="0 -2.3562 0" xyz="0.1 0.0 0.0"/>
    <axis xyz="0 -1 0"/>
    <limit effort="100.0" lower="-3.141593" upper="3.141593" velocity="10.0"/>
    <mimic joint="leg_r_joint4" multiplier="1" offset="0"/>
  </joint>
  <link name="leg_r_link7">
    <collision>
      <origin rpy="0 0 0" xyz="0 0 0"/>
      <geometry>
        <mesh filename="package://ginko_description/meshes/stl/link07_r_toe02.stl"/>
      </geometry>
    </collision>
    <visual>
      <origin rpy="0 0 0" xyz="0 0 0"/>
      <geometry>
        <mesh filename="package://ginko_description/meshes/stl/link07_r_toe02.stl"/>
      </geometry>
    </visual>
    <inertial>
      <mass value="0.10920041"/>
      <origin rpy="0 0 0" xyz="0.02658756 -0.00000053 -0.01782468"/>
      <inertia ixx="0.00003853" ixy="0.00000000" ixz="-0.00000479" iyy="0.00005192" iyz="0.00000000" izz="0.00003521"/>
    </inertial>
  </link>
  <joint name="leg_r_joint7" type="revolute">
    <parent link="leg_r_link6"/>
    <child link="leg_r_link7"/>
    <origin rpy="0 0 0" xyz="-0.028 -0.02475 -0.0391"/>
    <axis xyz="-1 0 0"/>
    <limit effort="100.0" lower="-1.6" upper="1.6" velocity="10.0"/>
  </joint>
  <link name="leg_r_link8">
    <collision>
      <origin rpy="0 0 0" xyz="0 0 0"/>
      <geometry>
        <mesh filename="package://ginko_description/meshes/stl/link08_r_toe03.stl"/>
      </geometry>
    </collision>
    <visual>
      <origin rpy="0 0 0" xyz="0 0 0"/>
      <geometry>
        <mesh filename="package://ginko_description/meshes/stl/link08_r_toe03.stl"/>
      </geometry>
    </visual>
    <inertial>
      <mass value="0.05363111"/>
      <origin rpy="0 0 0" xyz="0.00000000 0.00000000 -0.00269342"/>
      <inertia ixx="0.00002877" ixy="0.00000000" ixz="0.00000000" iyy="0.00007083" iyz="-0.00000000" izz="0.00009934"/>
    </inertial>
  </link>
  <joint name="leg_r_joint8" type="revolute">
    <parent link="leg_r_link7"/>
    <child link="leg_r_link8"/>
    <origin rpy="0 0 0" xyz="0.0342 0 -0.04"/>
    <axis xyz="0 0 1"/>
    <limit effort="100.0" lower="-2.6" upper="2.6" velocity="10.0"/>
  </joint>
  <!-- Link conencts from body. Femoral first. -->
  <gazebo reference="leg_r_link0">
    <kp>10000.0</kp>
    <kd>0.0</kd>
    <mu1>0.0</mu1>
    <maxVel>3.0</maxVel>
    <minDepth>0.0001</minDepth>
    <maxContacts>5</maxContacts>
    <selfCollide>false</selfCollide>
    <dampingFactor>0.01</dampingFactor>
  </gazebo>
  <!-- parallel link (upper-1st) -->
  <gazebo reference="leg_r_link1">
    <kp>1000.0</kp>
    <kd>0.0</kd>
    <mu1>0.0</mu1>
    <maxVel>3.0</maxVel>
    <minDepth>0.0001</minDepth>
    <maxContacts>5</maxContacts>
    <selfCollide>true</selfCollide>
    <dampingFactor>0.01</dampingFactor>
  </gazebo>
  <!-- parallel link (upper-2nd) -->
  <gazebo reference="leg_r_link2">
    <kp>10000.0</kp>
    <kd>0.0</kd>
    <mu1>0.0</mu1>
    <maxVel>3.0</maxVel>
    <minDepth>0.0001</minDepth>
    <maxContacts>5</maxContacts>
    <selfCollide>false</selfCollide>
    <dampingFactor>0.01</dampingFactor>
  </gazebo>
  <!-- knee -->
  <gazebo reference="leg_r_link3">
    <kp>10000.0</kp>
    <kd>0.0</kd>
    <mu1>0.3</mu1>
    <maxVel>3.0</maxVel>
    <minDepth>0.0001</minDepth>
    <maxContacts>5</maxContacts>
    <selfCollide>false</selfCollide>
    <dampingFactor>0.01</dampingFactor>
  </gazebo>
  <!-- parallel link (lower-1st) -->
  <gazebo reference="leg_r_link4">
    <kp>1000.0</kp>
    <kd>0.0</kd>
    <mu1>0.0</mu1>
    <maxVel>3.0</maxVel>
    <minDepth>0.0001</minDepth>
    <maxContacts>5</maxContacts>
    <selfCollide>true</selfCollide>
    <dampingFactor>0.01</dampingFactor>
  </gazebo>
  <!-- parallel link (lower-2nd) -->
  <gazebo reference="leg_r_link5">
    <kp>10000.0</kp>
    <kd>0.0</kd>
    <mu1>0.0</mu1>
    <maxVel>3.0</maxVel>
    <minDepth>0.0001</minDepth>
    <maxContacts>5</maxContacts>
    <selfCollide>false</selfCollide>
    <dampingFactor>0.01</dampingFactor>
  </gazebo>
  <!-- toe -->
  <gazebo reference="leg_r_link6">
    <kp>10000.0</kp>
    <kd>0.0</kd>
    <mu1>0.0</mu1>
    <maxVel>3.0</maxVel>
    <minDepth>0.0001</minDepth>
    <maxContacts>5</maxContacts>
    <selfCollide>false</selfCollide>
    <dampingFactor>0.01</dampingFactor>
  </gazebo>
  <gazebo reference="leg_r_link7">
    <kp>10000.0</kp>
    <kd>0.0</kd>
    <mu1>0.0</mu1>
    <maxVel>3.0</maxVel>
    <minDepth>0.0001</minDepth>
    <maxContacts>5</maxContacts>
    <selfCollide>false</selfCollide>
    <dampingFactor>0.01</dampingFactor>
  </gazebo>
  <gazebo reference="leg_r_link8">
    <kp>10000.0</kp>
    <kd>0.0</kd>
    <mu1>1.0</mu1>
    <maxVel>3.0</maxVel>
    <minDepth>0.0001</minDepth>
    <maxContacts>5</maxContacts>
    <selfCollide>false</selfCollide>
    <dampingFactor>0.01</dampingFactor>
  </gazebo>
  <!-- Joints. Femoral first. -->
  <transmission name="leg_r_tran0">
    <type>transmission_interface/SimpleTransmission</type>
    <joint name="leg_r_joint0">
      <hardwareInterface>hardware_interface/EffortJointInterface</hardwareInterface>
    </joint>
    <actuator name="leg_r_motor0">
      <hardwareInterface>hardware_interface/EffortJointInterface</hardwareInterface>
      <mechanicalReduction>1</mechanicalReduction>
    </actuator>
  </transmission>
  <!-- parallel link (upper-1st) -->
  <transmission name="leg_r_tran1">
    <type>transmission_interface/SimpleTransmission</type>
    <joint name="leg_r_joint1">
      <hardwareInterface>hardware_interface/EffortJointInterface</hardwareInterface>
    </joint>
    <actuator name="leg_r_motor1">
      <hardwareInterface>hardware_interface/EffortJointInterface</hardwareInterface>
      <mechanicalReduction>1</mechanicalReduction>
    </actuator>
  </transmission>
  <!-- parallel link (lower-1st) -->
  <transmission name="leg_r_tran2">
    <type>transmission_interface/SimpleTransmission</type>
    <joint name="leg_r_joint4">
      <hardwareInterface>hardware_interface/EffortJointInterface</hardwareInterface>
    </joint>
    <actuator name="leg_r_motor2">
      <hardwareInterface>hardware_interface/EffortJointInterface</hardwareInterface>
      <mechanicalReduction>1</mechanicalReduction>
    </actuator>
  </transmission>
  <!-- toe -->
  <transmission name="leg_r_tran3">
    <type>transmission_interface/SimpleTransmission</type>
    <joint name="leg_r_joint7">
      <hardwareInterface>hardware_interface/EffortJointInterface</hardwareInterface>
    </joint>
    <actuator name="leg_r_motor3">
      <hardwareInterface>hardware_interface/EffortJointInterface</hardwareInterface>
      <mechanicalReduction>1</mechanicalReduction>
    </actuator>
  </transmission>
  <transmission name="leg_r_tran4">
    <type>transmission_interface/SimpleTransmission</type>
    <joint name="leg_r_joint8">
      <hardwareInterface>hardware_interface/EffortJointInterface</hardwareInterface>
    </joint>
    <actuator name="leg_r_motor4">
      <hardwareInterface>hardware_interface/EffortJointInterface</hardwareInterface>
      <mechanicalReduction>1</mechanicalReduction>
    </actuator>
  </transmission>
</robot>
